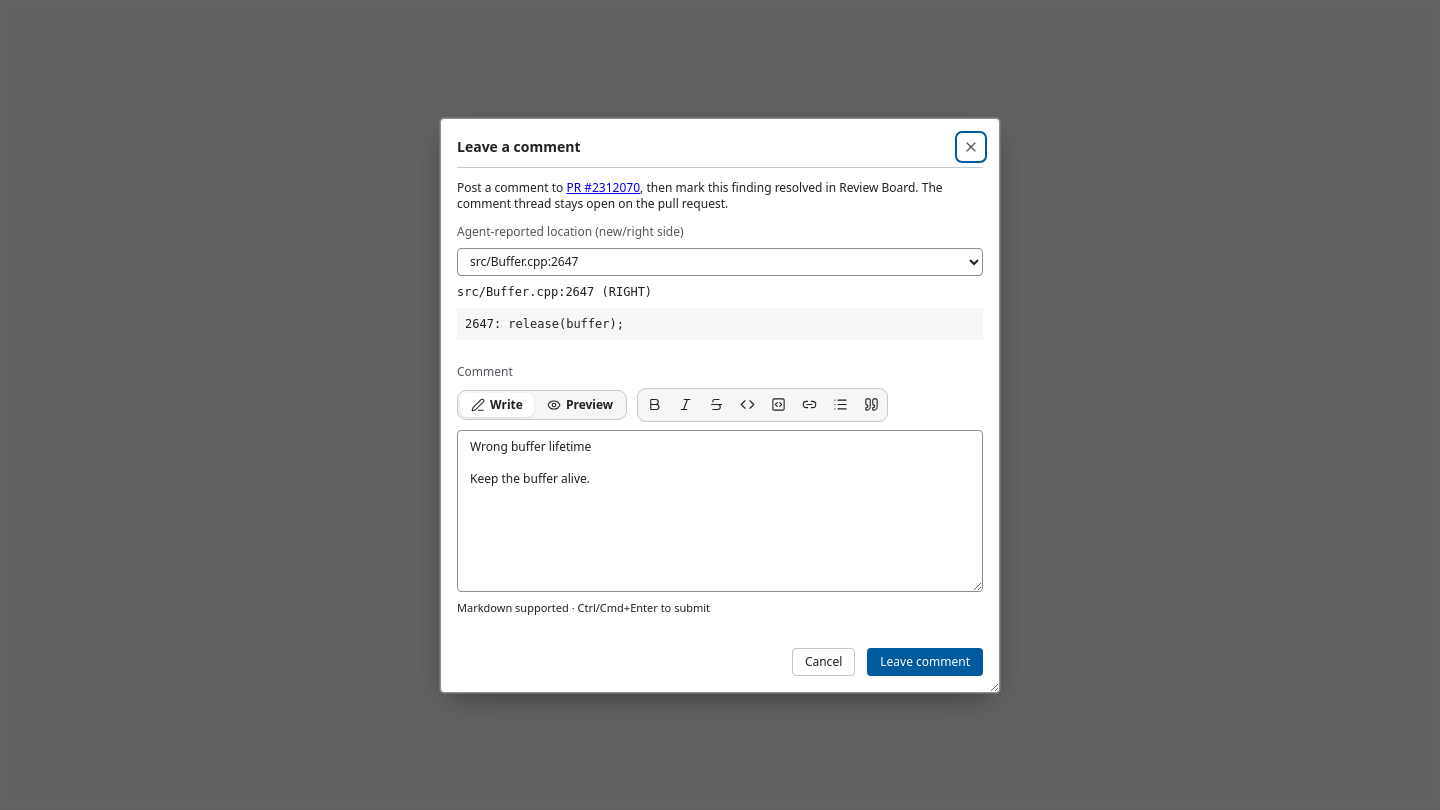
Test case: FindingCommentDialog › does not resolve a finding if the provider returns a different line
Click the button "Leave comment": (925, 662) [867,648,983,676]
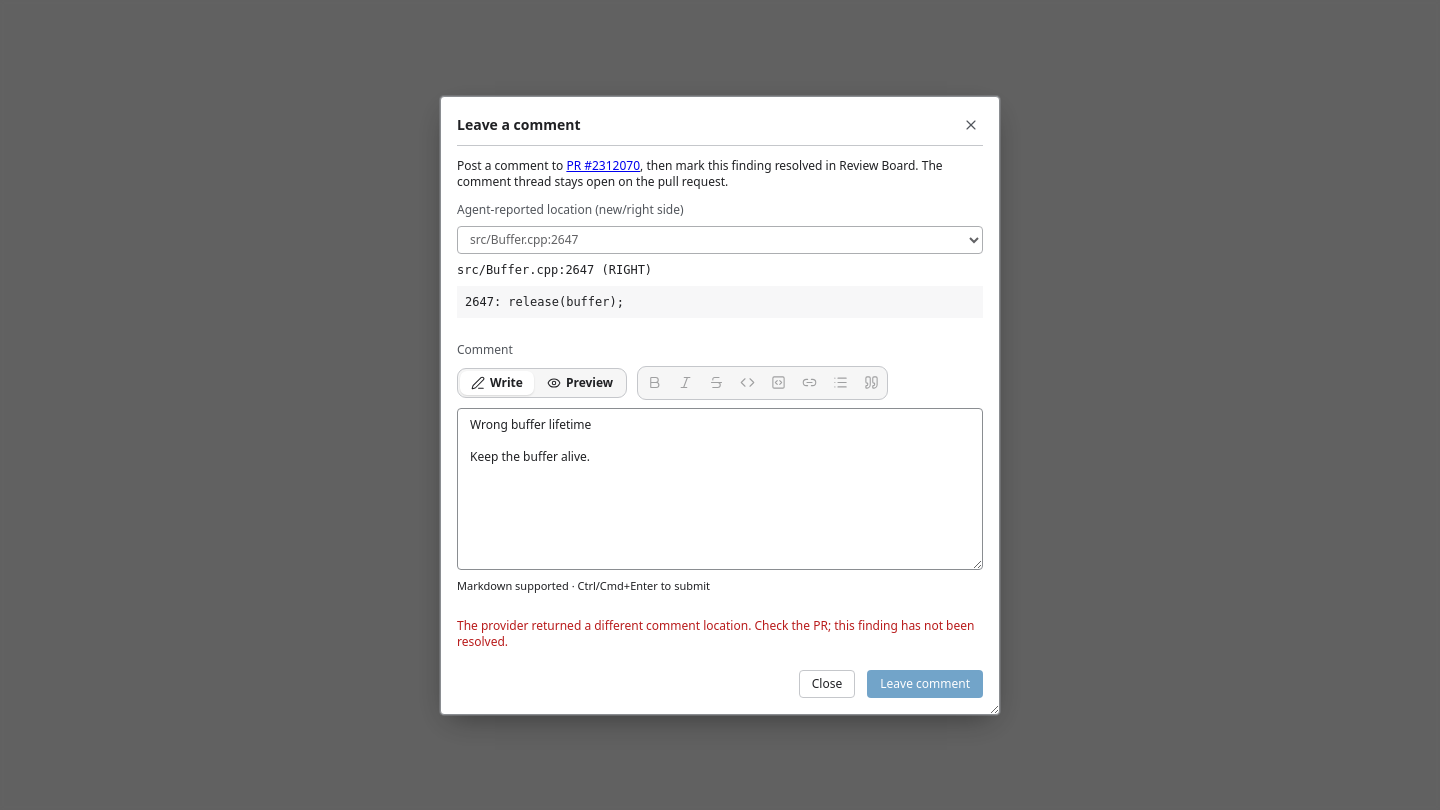
Expected: the text "provider returned a different comment location" is shown, [457,616,974,650]
Expected: the button "Leave comment" is disabled, [867,670,983,698]
